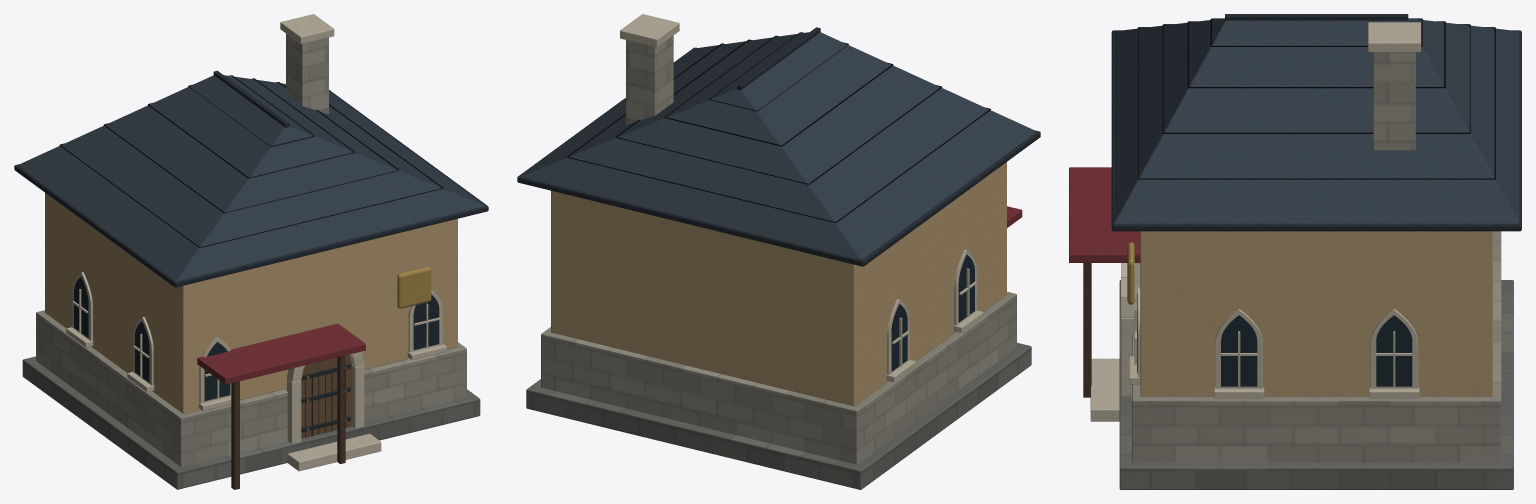
Rendered from Bakery.fbx.
3 views of the same model, side by side, from view 1: azimuth 30°, elevation 25°; view 2: azimuth 150°, elevation 25°; view 3: azimuth 270°, elevation 25° (orthographic). The views are drawn at different scales.
Parts seen in each view (by area): view 1: Bakery.001; view 2: Bakery.001; view 3: Bakery.001.
Boxes of the visible parts, x1,y1,x2,y2 form: Bakery.001: [14, 14, 488, 489]; Bakery.001: [517, 14, 1040, 489]; Bakery.001: [1069, 14, 1521, 489].
Bounding box in the file's own units: 8.91 × 8.88 × 8.73.
